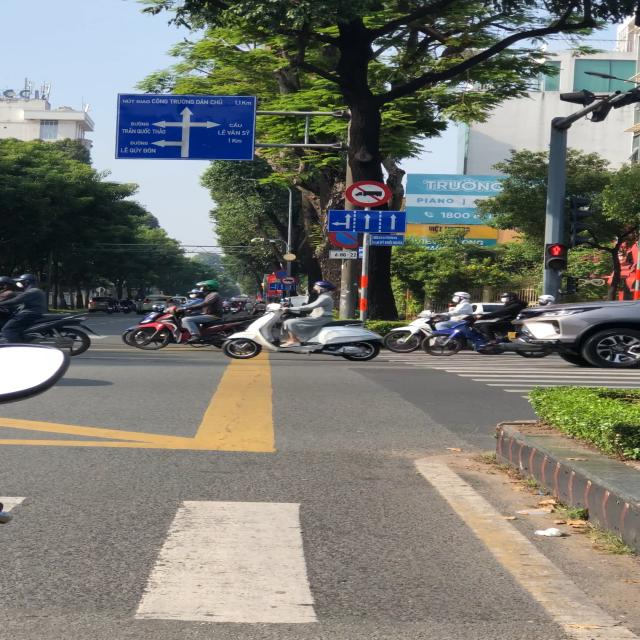Bien bao cam xe so-mi ro-mooc: (344, 180, 390, 209), (278, 276, 299, 286)
